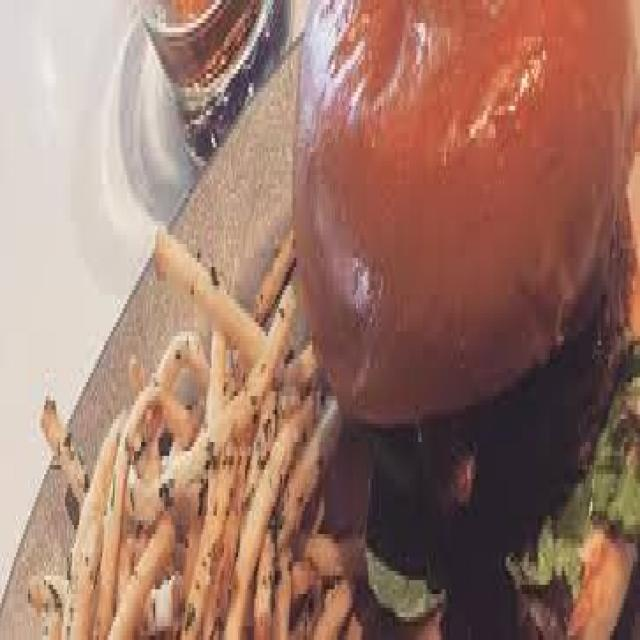Burger: (310, 0, 640, 640)
French Fries: (23, 208, 361, 636)
